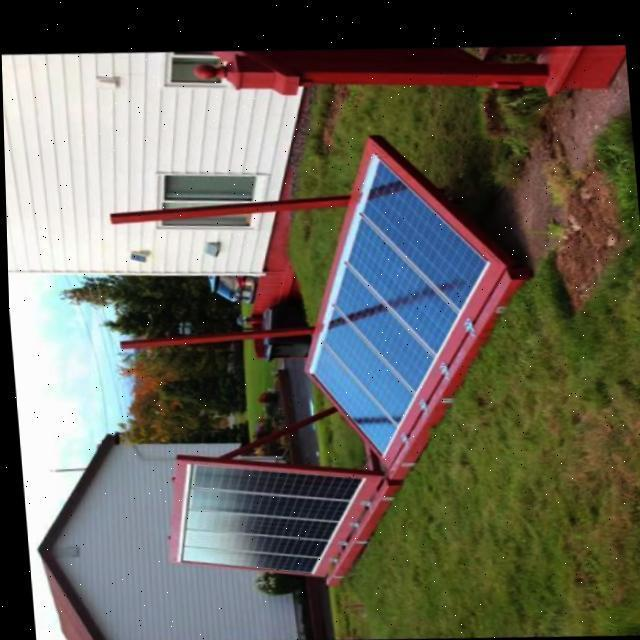Normal Solar Panel: (292, 147, 502, 460), (171, 454, 367, 580)
